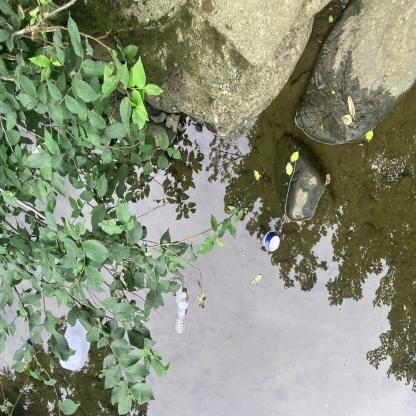Plastic: (57, 315, 92, 372), (171, 289, 189, 336)
Trash: (262, 229, 282, 254)
